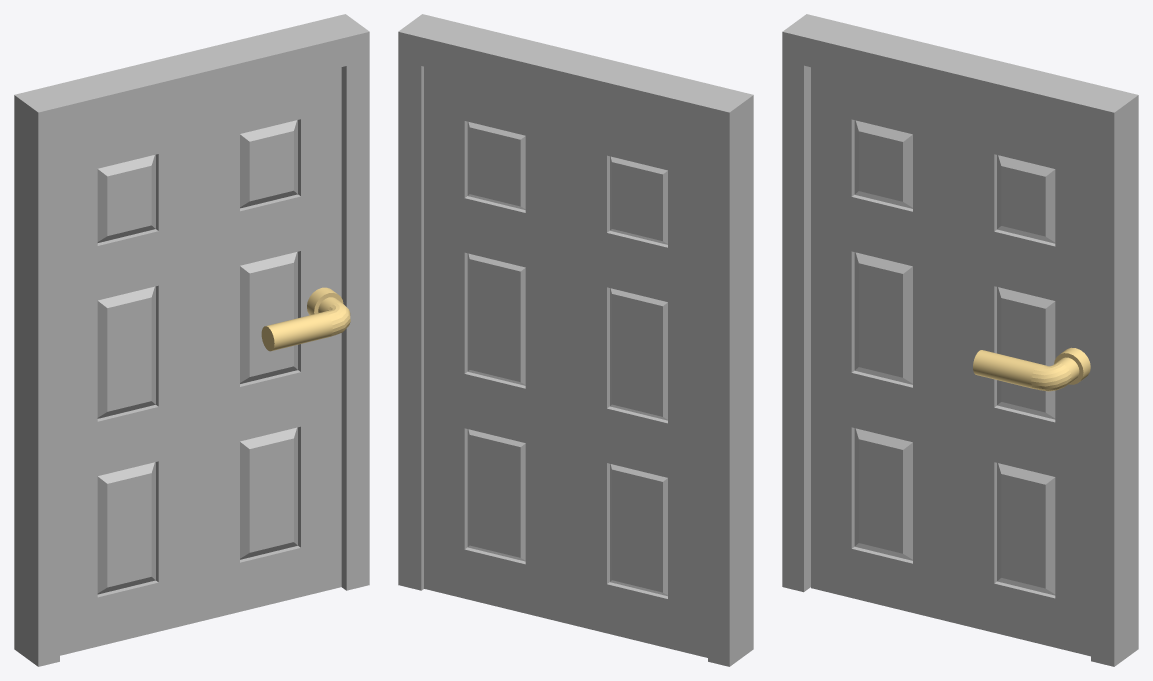
Rendered from door.fbx.
3 views of the same model, side by side, from view 1: azimuth 30°, elevation 25°; view 2: azimuth 150°, elevation 25°; view 3: azimuth 330°, elevation 25° (orthographic).
Parts seen in each view (by area): view 1: door, door_frame; view 2: door, door_frame; view 3: door, door_frame.
Boxes of the visible parts, <box> form: door: <box>60,67,350,655</box>; door_frame: <box>14,14,369,666</box>; door: <box>424,66,707,657</box>; door_frame: <box>398,14,753,666</box>; door: <box>811,67,1090,656</box>; door_frame: <box>782,14,1138,666</box>.
Size of the model in its own units: 1.28 by 2.04 by 0.3152.
1 material, 1 textured.
